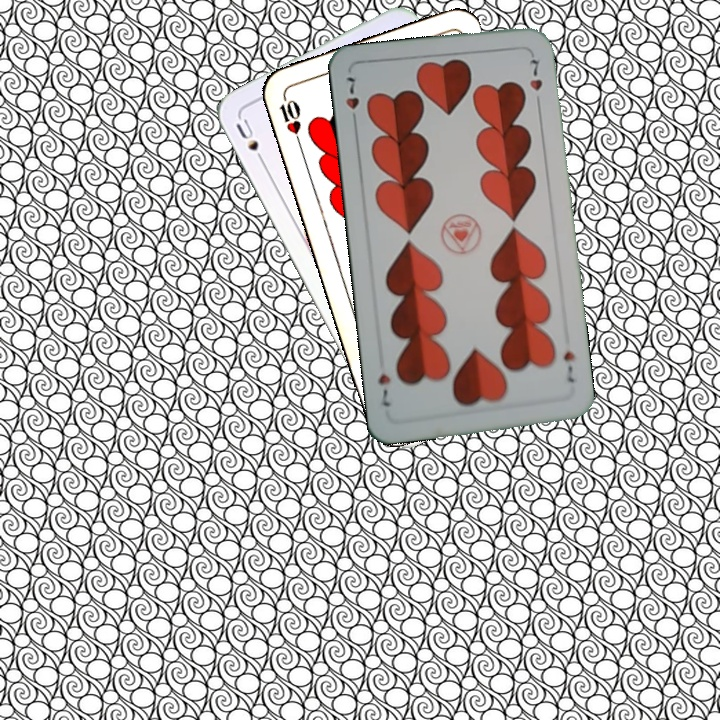H10: (275, 89, 304, 147)
H7: (341, 70, 362, 129), (559, 347, 577, 385)
SU: (231, 114, 269, 169)
